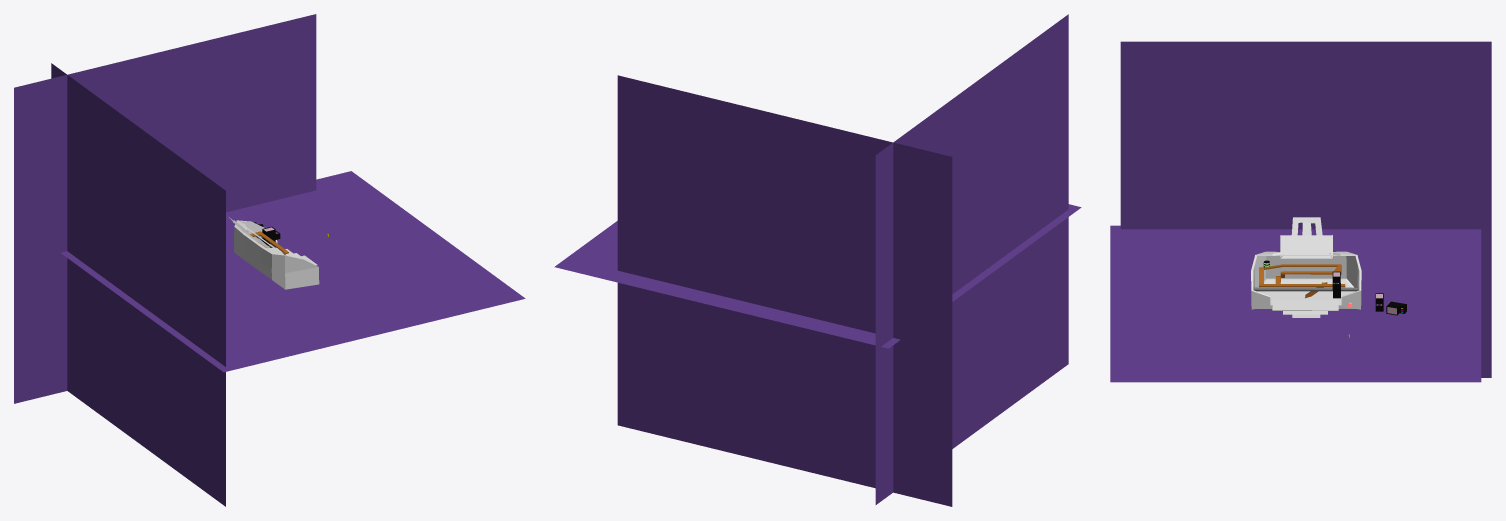
File: printerInterior.fbx
3 renders of one model, left to right at view 1: azimuth 30°, elevation 25°; view 2: azimuth 150°, elevation 25°; view 3: azimuth 270°, elevation 25°, orthographic. The views are drawn at different scales.
Parts seen in each view (by area): view 1: TablePlane.002, TablePlane.003, TablePlane, PrinterShell; view 2: TablePlane.003, TablePlane.002, TablePlane; view 3: TablePlane.002, TablePlane, PrinterShell, Ramp, StabillizerBar.
Part boxes in pixels (left/top/right/bottom): TablePlane.002: left=51, top=63, right=225, bottom=506; TablePlane.003: left=14, top=14, right=316, bottom=403; TablePlane: left=60, top=171, right=525, bottom=372; PrinterShell: left=229, top=217, right=319, bottom=289; TablePlane.003: left=617, top=75, right=952, bottom=506; TablePlane.002: left=875, top=14, right=1068, bottom=504; TablePlane: left=554, top=204, right=1081, bottom=348; TablePlane.002: left=1120, top=41, right=1491, bottom=377; TablePlane: left=1110, top=225, right=1481, bottom=382; PrinterShell: left=1251, top=217, right=1361, bottom=317; Ramp: left=1259, top=264, right=1345, bottom=298; StabillizerBar: left=1253, top=287, right=1359, bottom=291.
Bounding box in the file's own units: 1730 × 1500 × 1542.
